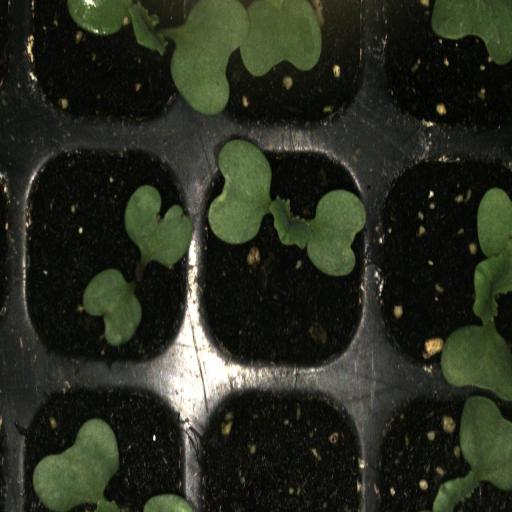Folha: (67, 0, 322, 121), (33, 418, 120, 512), (124, 185, 193, 268), (432, 0, 512, 65), (83, 269, 142, 346)
Germinacao: (14, 134, 194, 373), (197, 134, 373, 376), (376, 136, 512, 378)
